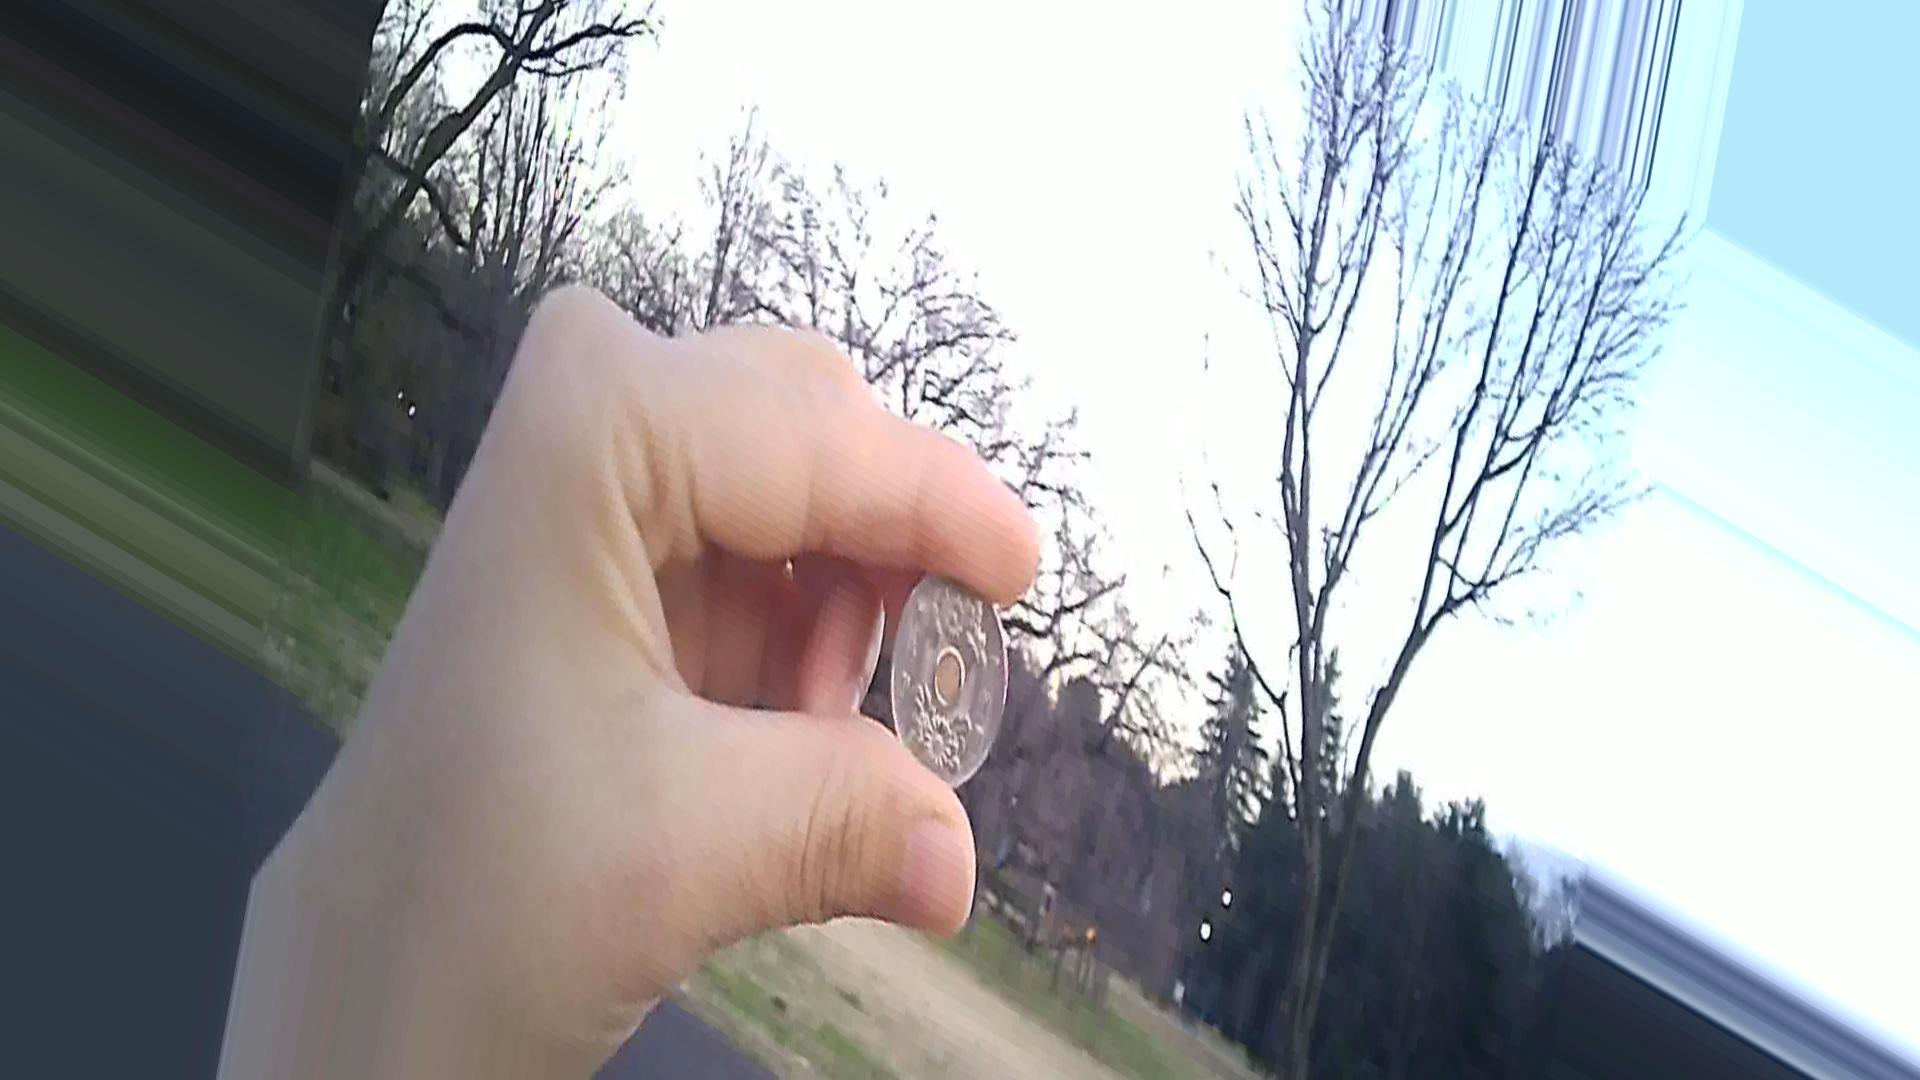50 Yen: (878, 568, 1033, 804)
